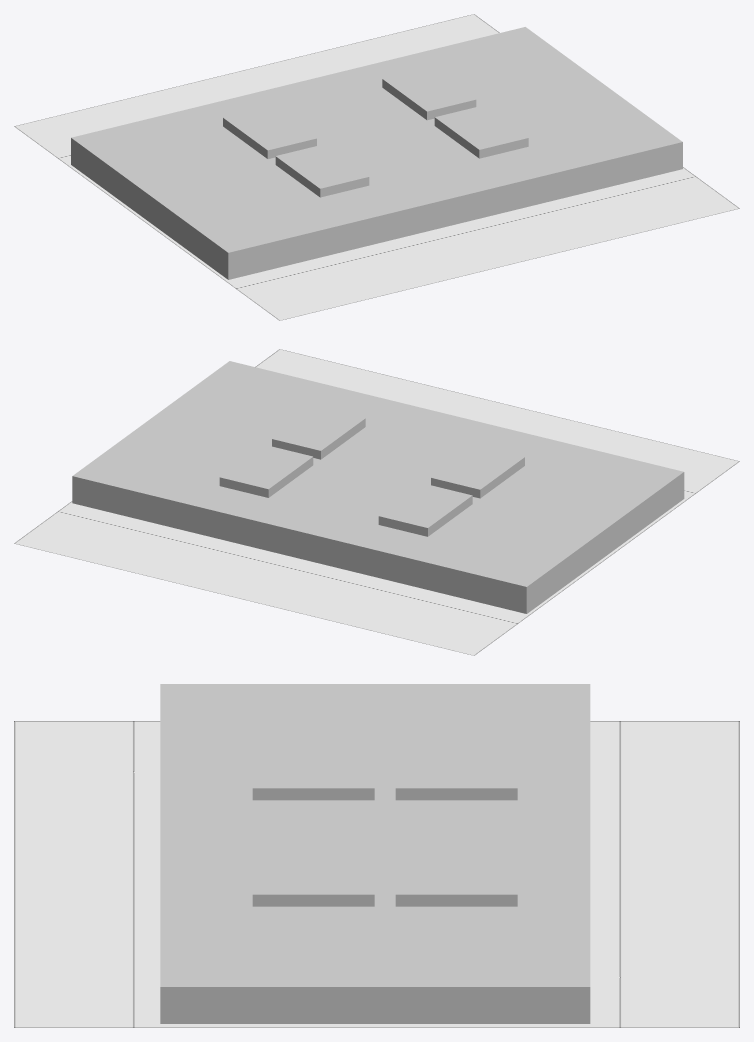
File: bldg-22.glb
3 renders of one model, top to bottom at view 1: azimuth 30°, elevation 25°; view 2: azimuth 150°, elevation 25°; view 3: azimuth 270°, elevation 25°, orthographic. The views are drawn at different scales.
Parts seen in each view (by area): view 1: view-container, building-map, hit-3E, hit-6W, hit-3W, hit-6E; view 2: view-container, building-map, hit-6E, hit-3W, hit-6W, hit-3E; view 3: view-container, building-map, hit-6W, hit-6E, hit-3E, hit-3W.
Part boxes in pixels (<box>): view-container: <box>71,27,682,279</box>; building-map: <box>14,14,739,320</box>; hit-3E: <box>434,105,528,158</box>; hit-6W: <box>275,144,369,197</box>; hit-3W: <box>382,67,476,120</box>; hit-6E: <box>223,106,316,158</box>; view-container: <box>72,361,684,613</box>; building-map: <box>14,349,739,655</box>; hit-6E: <box>378,483,472,536</box>; hit-3W: <box>219,444,313,497</box>; hit-6W: <box>431,445,524,498</box>; hit-3E: <box>272,406,365,459</box>; view-container: <box>160,684,590,1023</box>; building-map: <box>14,721,739,1027</box>; hit-6W: <box>252,755,374,800</box>; hit-6E: <box>395,755,517,800</box>; hit-3E: <box>252,862,374,906</box>; hit-3W: <box>395,862,517,906</box>.
Bounding box in the file's own units: 563 × 43.28 × 563.
1 material, 1 textured.
